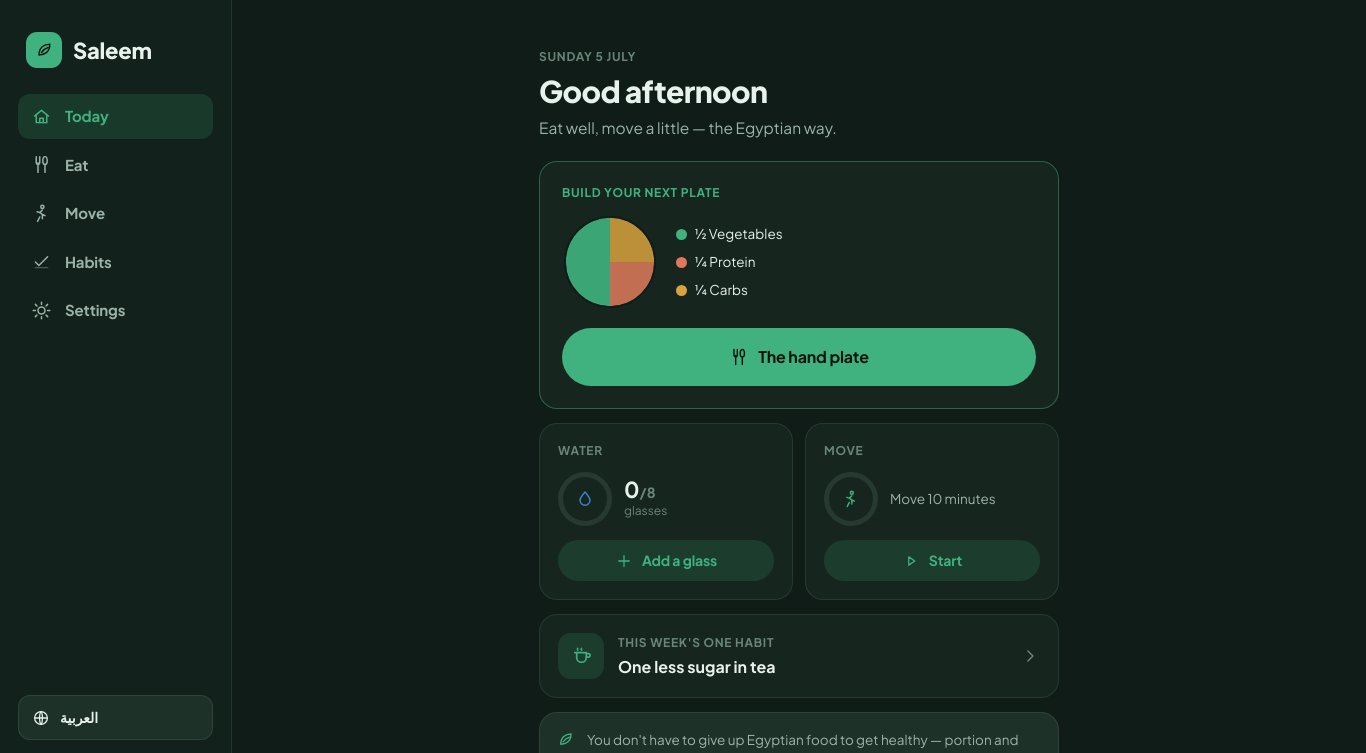
Test: habits › marks the focus habit and shows a one-day streak
Click the link "Habits" at point(71, 262), box 31,251 -> 112,272
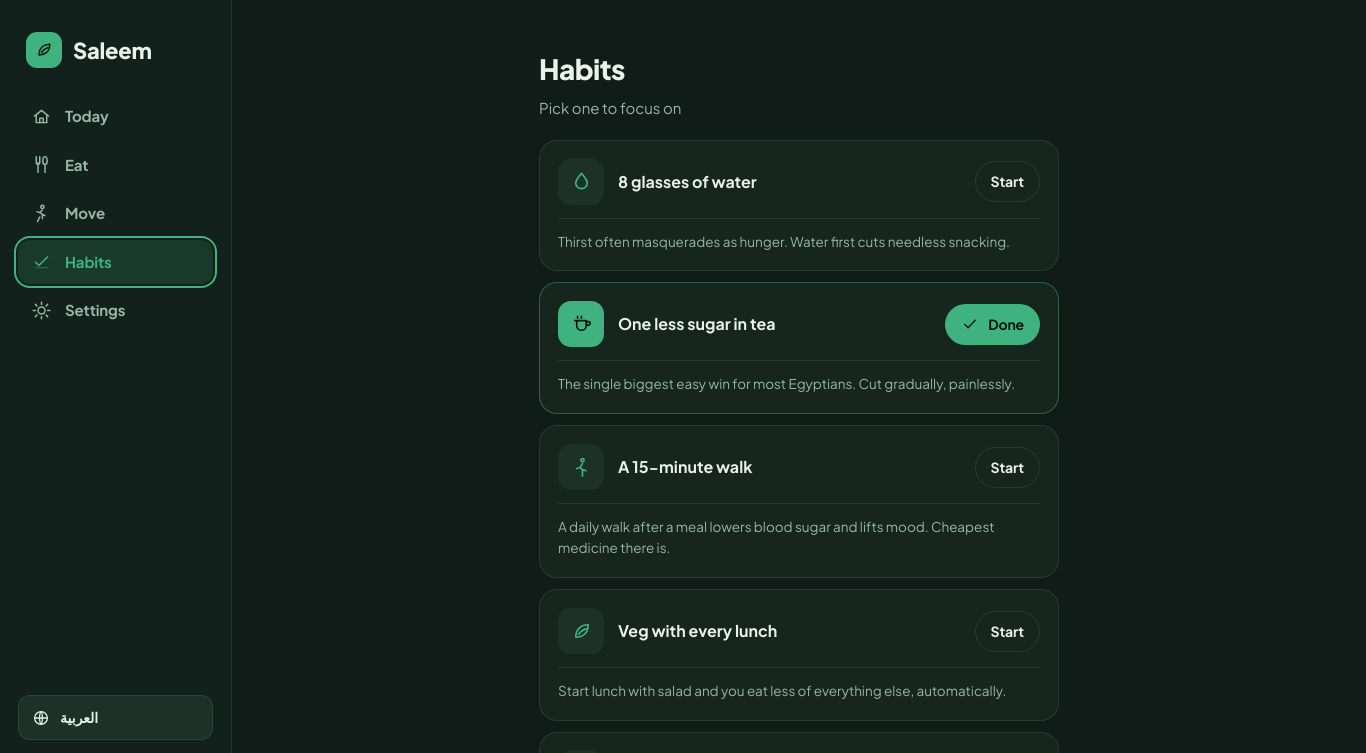
The default focus habit (sugar) shows the Done action.
Click the button "Done" at point(993, 324), box 945,304 -> 1040,345
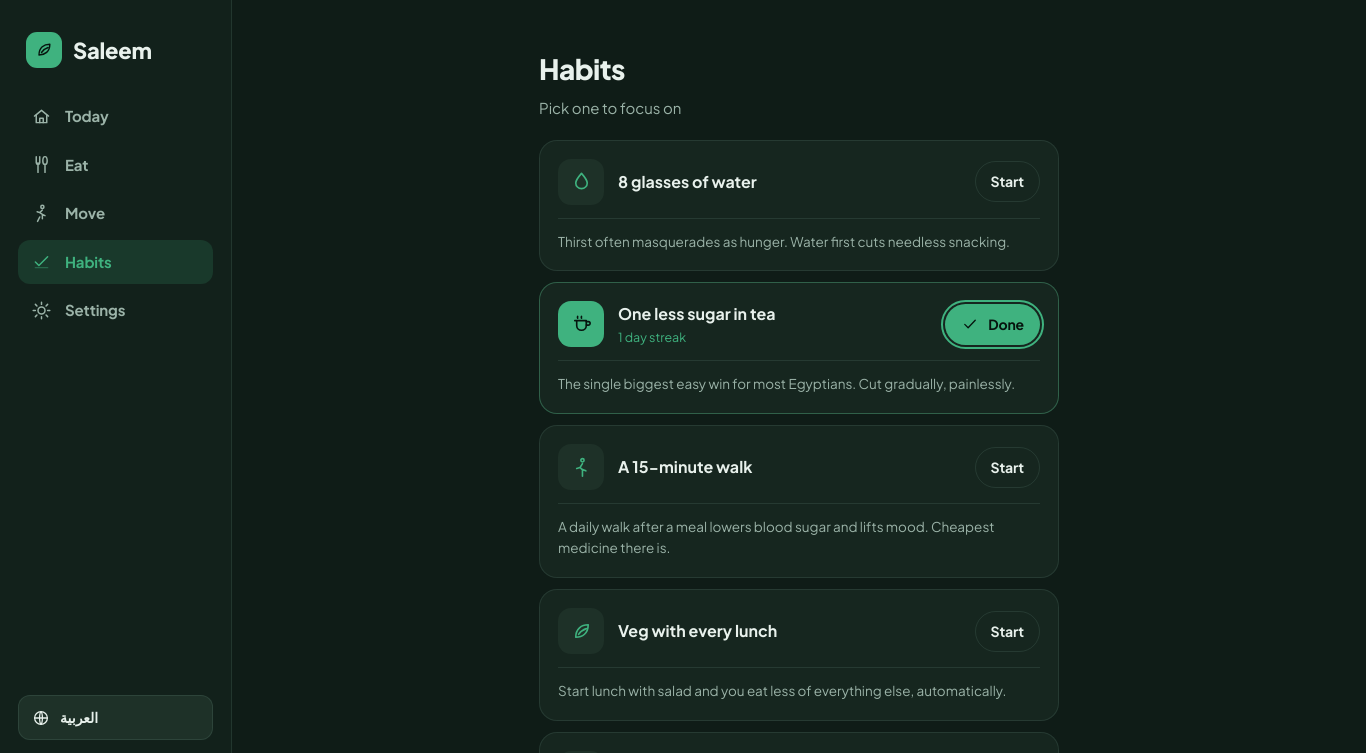
expect the text "1 day streak" is shown: met, box 618,329 -> 686,345
